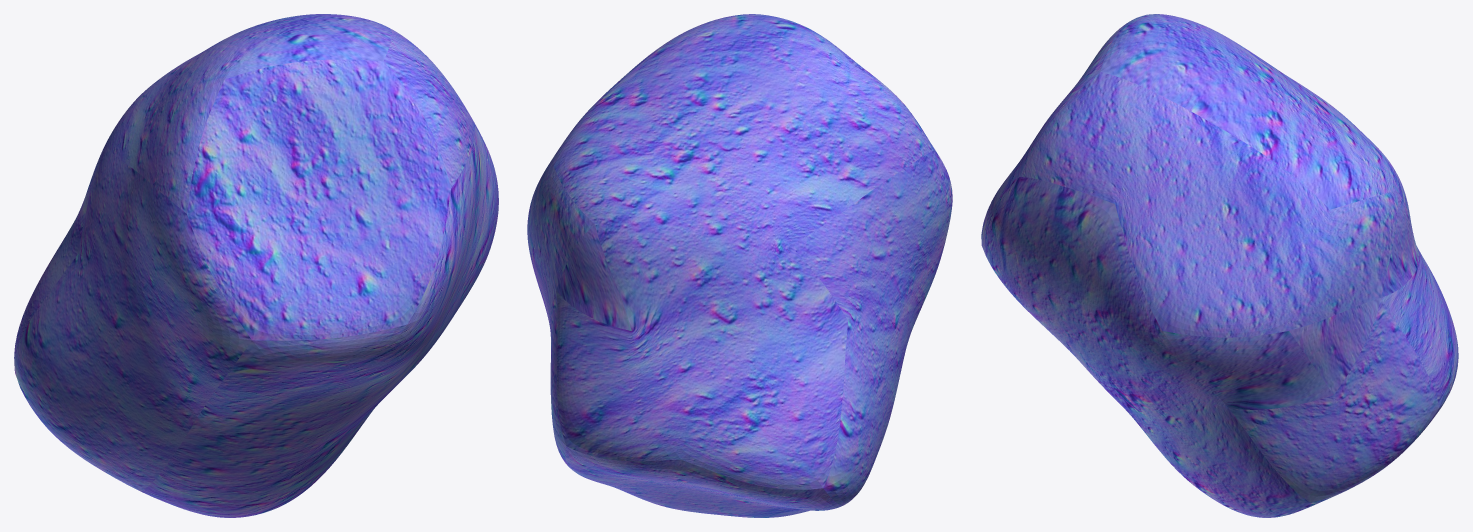
File: smallasteroid3_LOD0.fbx
3 views of the same model, side by side, from view 1: azimuth 30°, elevation 25°; view 2: azimuth 150°, elevation 25°; view 3: azimuth 270°, elevation 25° (orthographic). The views are drawn at different scales.
Visible parts, largest first — view 1: Icosphere; view 2: Icosphere; view 3: Icosphere.
Part boxes in pixels (x1,y1,x2,y2): Icosphere: [14, 14, 498, 517]; Icosphere: [527, 14, 952, 517]; Icosphere: [981, 14, 1458, 517].
Bounding box in the file's own units: 218 × 269 × 248.
